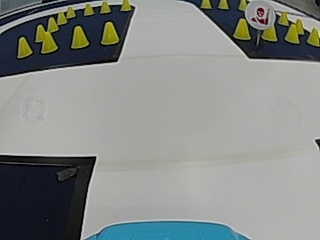evil: (244, 0, 275, 29)
